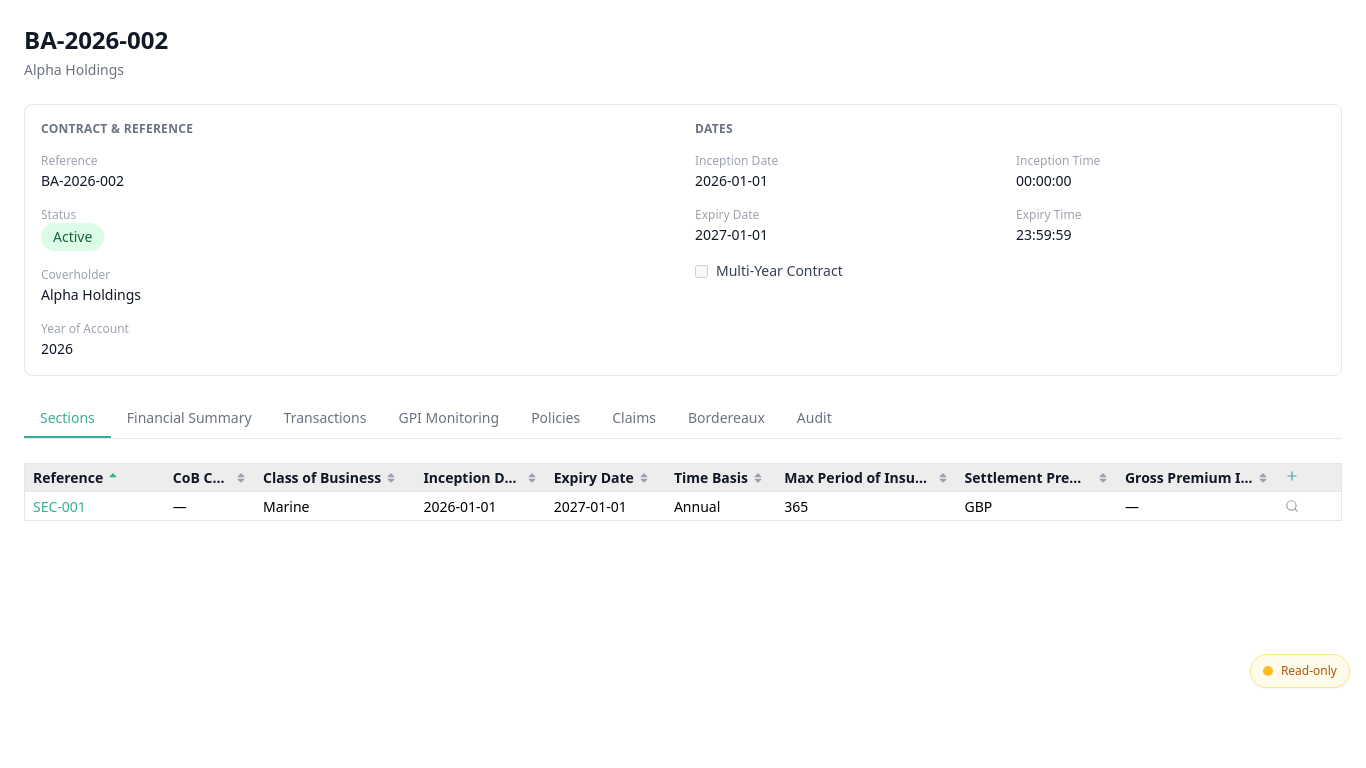
Scenario: BAViewPage â€” Transactions Tab › T-BA-FE-F-R046b â€” Transactions tab stays visible when the only transaction is the initial issued entry
The image size is (1366, 768).
Expected: the heading "BA-2026-002" is shown, top-left (24, 24), bottom-right (168, 56)
Step 1. Click the button "Transactions" → (325, 419), box top-left (268, 400), bottom-right (382, 438)
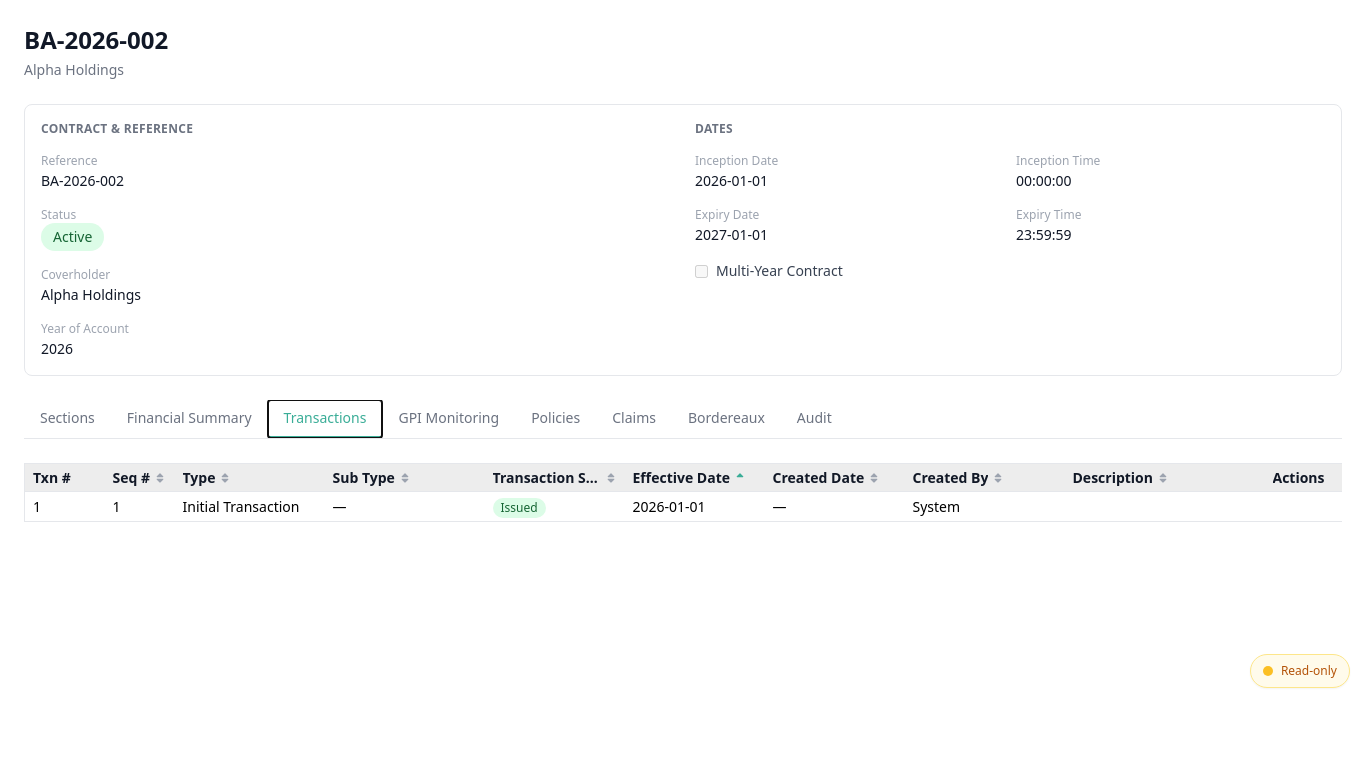
Expected: the text "Initial Transaction" is shown, top-left (174, 492), bottom-right (324, 521)
